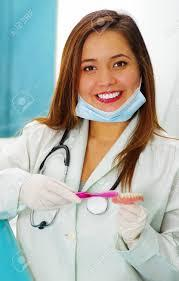Wore Mask Incorrectly: (56, 7, 157, 126)
